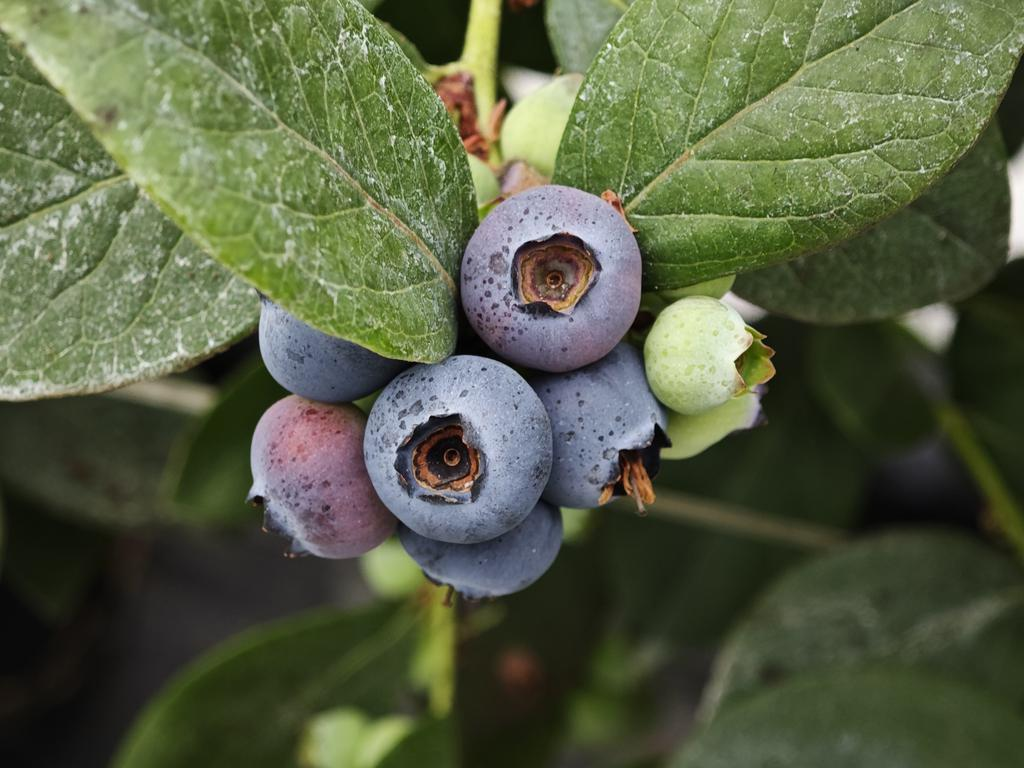RipeBlueBerry: (364, 356, 553, 544), (460, 184, 643, 364)
Semi-RipeBlueBerry: (247, 393, 399, 560)
UnripeBlueBerry: (646, 293, 777, 413)
